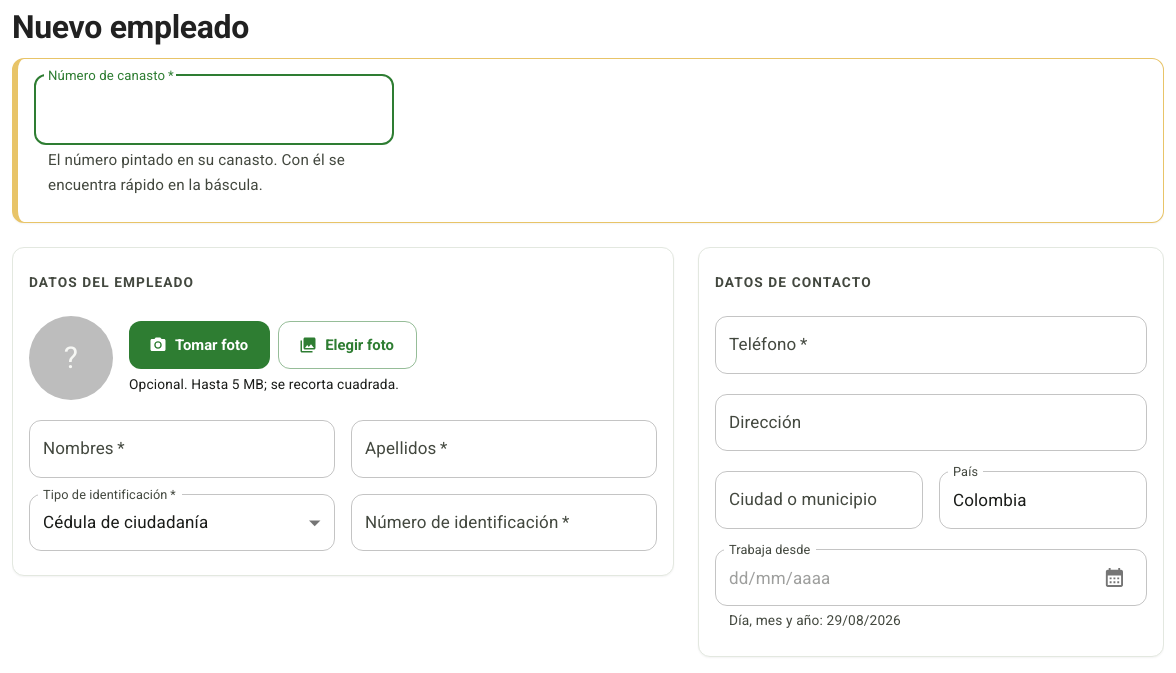
Test case: «Número de canasto» › is required, with a plain sentence under the box
In the field labelled "Nombres *": (182, 449) left=29, top=420, right=335, bottom=478, type "Otra"
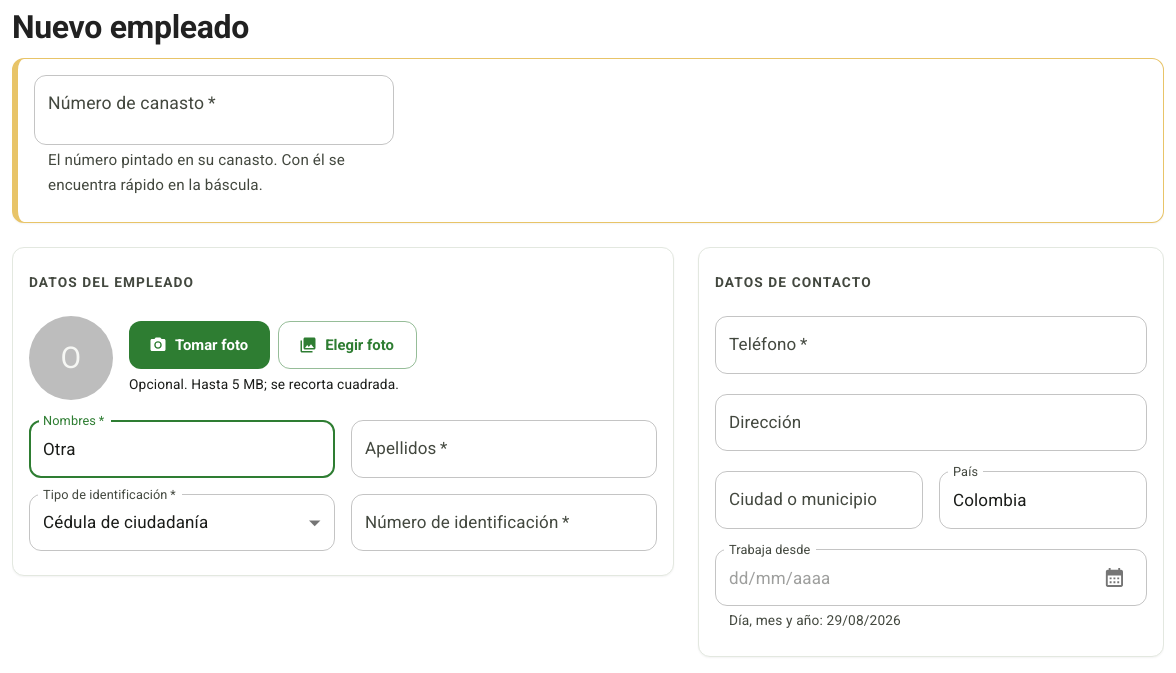
In the field labelled "Apellidos *": (504, 449) left=351, top=420, right=657, bottom=478, type "Persona"
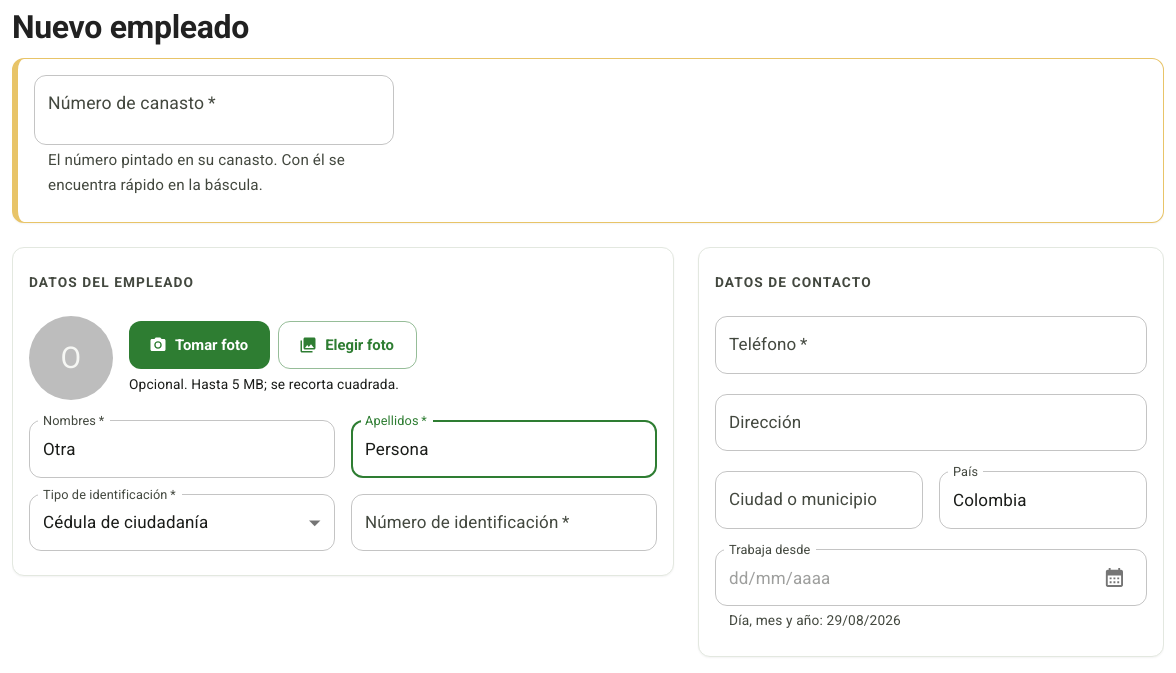
In the field labelled "Número de identificación *": (504, 523) left=351, top=494, right=657, bottom=551, type "1234567890"
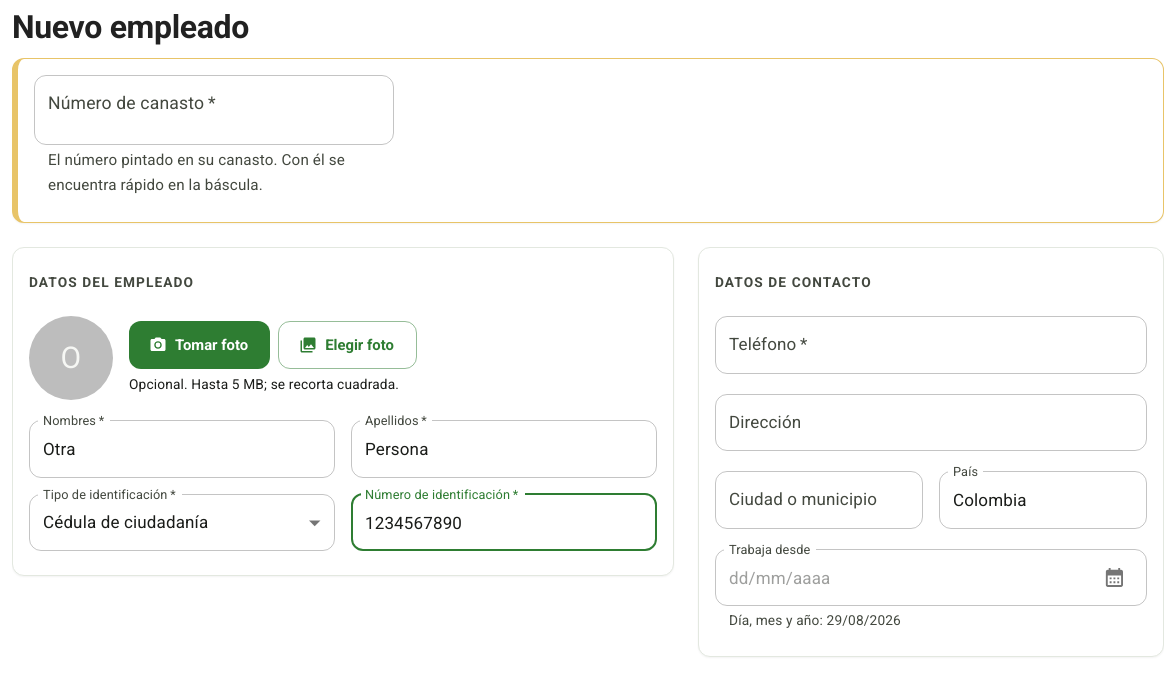
In the field labelled "Teléfono *": (931, 345) left=715, top=316, right=1147, bottom=374, type "3001234567"
(page scrolled)
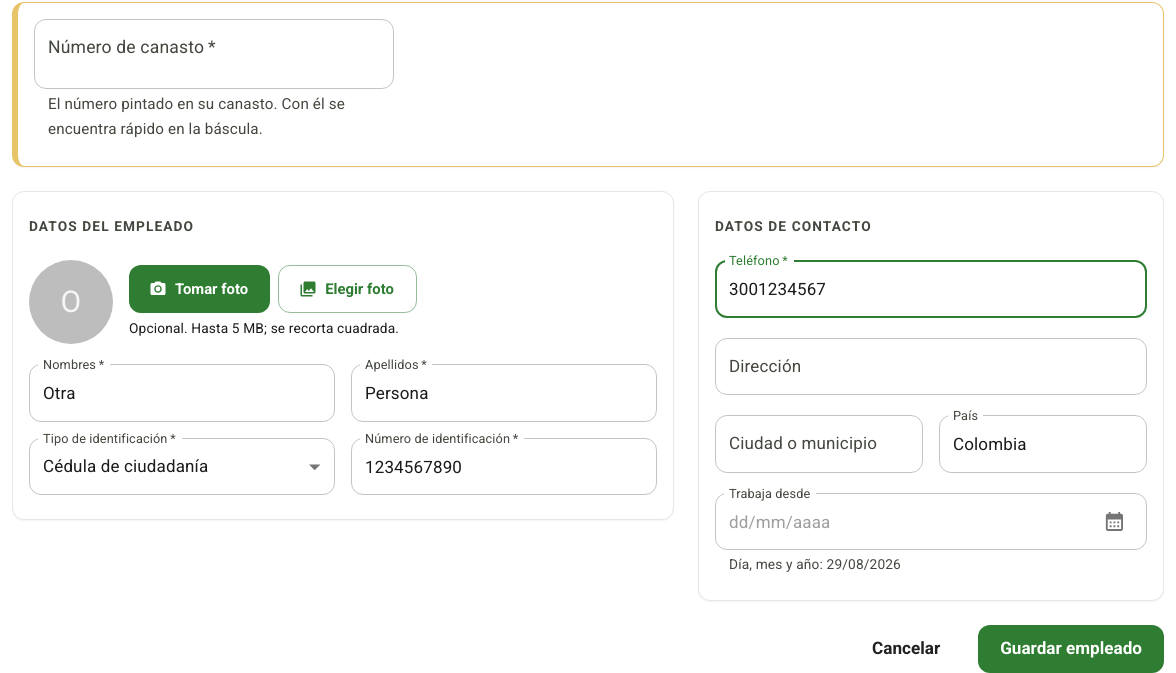
Click the button "Guardar empleado": (1071, 649) left=978, top=625, right=1164, bottom=672
(page scrolled)
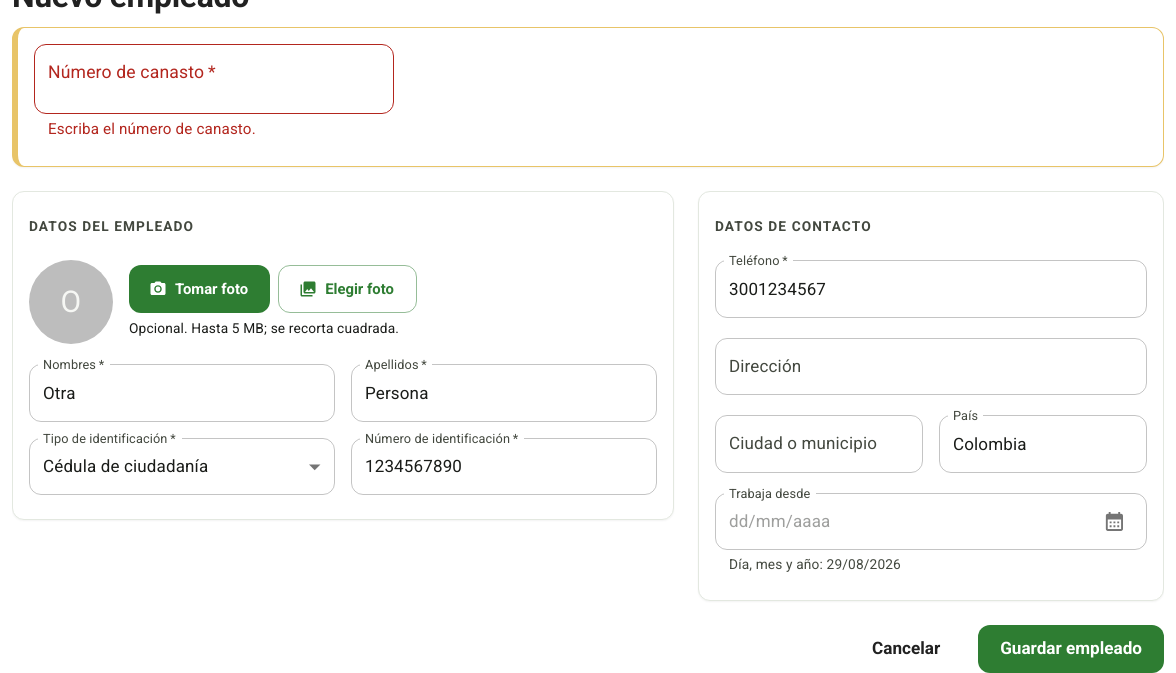
Expected: the text "Escriba el número de canasto." is shown, left=48, top=120, right=256, bottom=138
